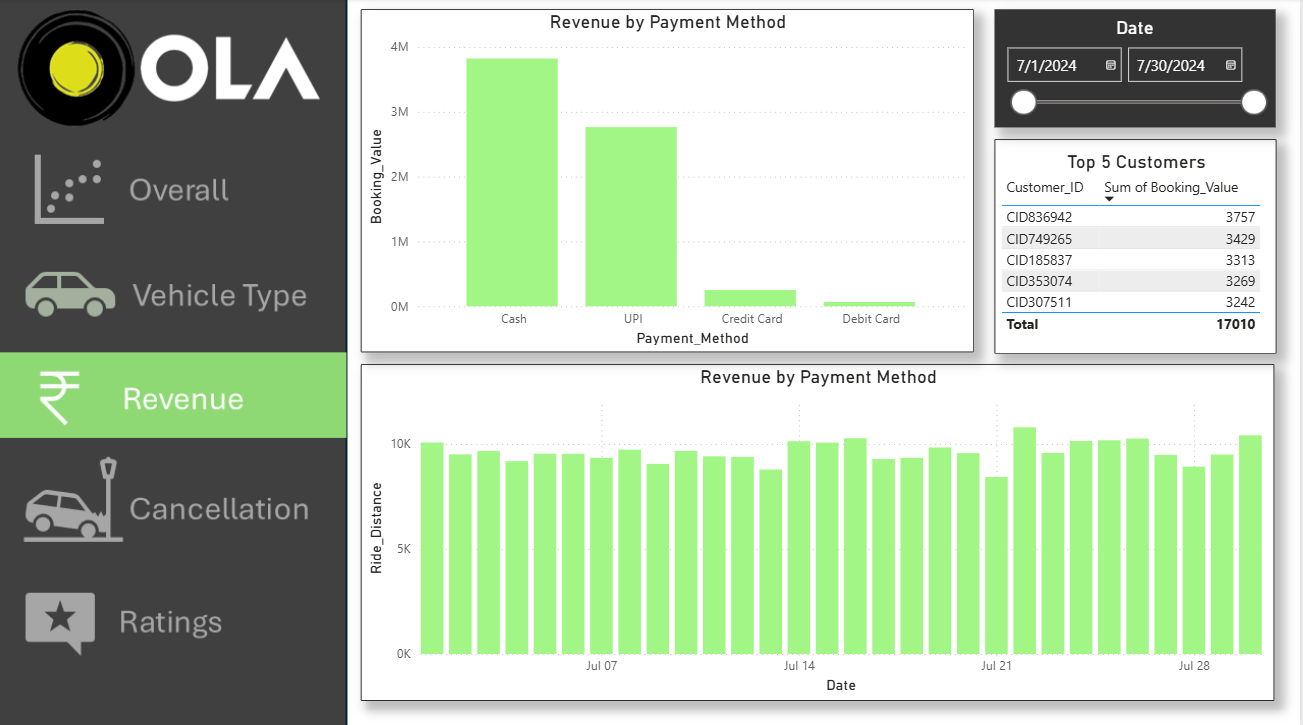

What the dashboard file says about the page in this screenshot:
{"tool":"powerbi","page":{"name":"Revenue","canvas":[1280,720],"ordinal":2},"visuals":[{"type":"actionButton","box":[0,244.2,344.8,87.1],"z":0},{"type":"actionButton","box":[0,456.4,344.8,85.9],"z":1000},{"type":"actionButton","box":[0,568.1,344.8,83.4],"z":2000},{"type":"actionButton","box":[0,138.7,343.6,93.3],"z":3000},{"type":"columnChart","title":"Revenue by Payment Method","fields":{"Y":["Sum(July.Booking_Value)"],"Category":["July.Payment_Method"]},"box":[357.1,11.4,601.4,337.1],"z":4000},{"type":"columnChart","title":"Revenue by Payment Method","fields":{"Y":["Sum(July.Ride_Distance)"],"Category":["July.Date"]},"box":[357.1,360,897.1,330],"z":5000},{"type":"slicer","title":"Date","fields":{"Values":["July.Date"]},"box":[978.6,11.4,275.7,115.7],"z":6000},{"type":"tableEx","title":"Top 5 Customers","fields":{"Values":["July.Customer_ID","Sum(July.Booking_Value)"]},"box":[978.6,138.6,277.1,210],"z":7000}]}

Visuals, with their boxes in screenshot pixels (x1, y1, x2, y2), scaled from the page's 1280x720 canvas onto the 1303x725 screenshot:
actionButton: bbox=[0, 246, 351, 334]
actionButton: bbox=[0, 460, 351, 546]
actionButton: bbox=[0, 572, 351, 656]
actionButton: bbox=[0, 140, 350, 234]
"Revenue by Payment Method" columnChart: bbox=[364, 11, 976, 351]
"Revenue by Payment Method" columnChart: bbox=[364, 362, 1277, 695]
"Date" slicer: bbox=[996, 11, 1277, 128]
"Top 5 Customers" tableEx: bbox=[996, 140, 1278, 351]
